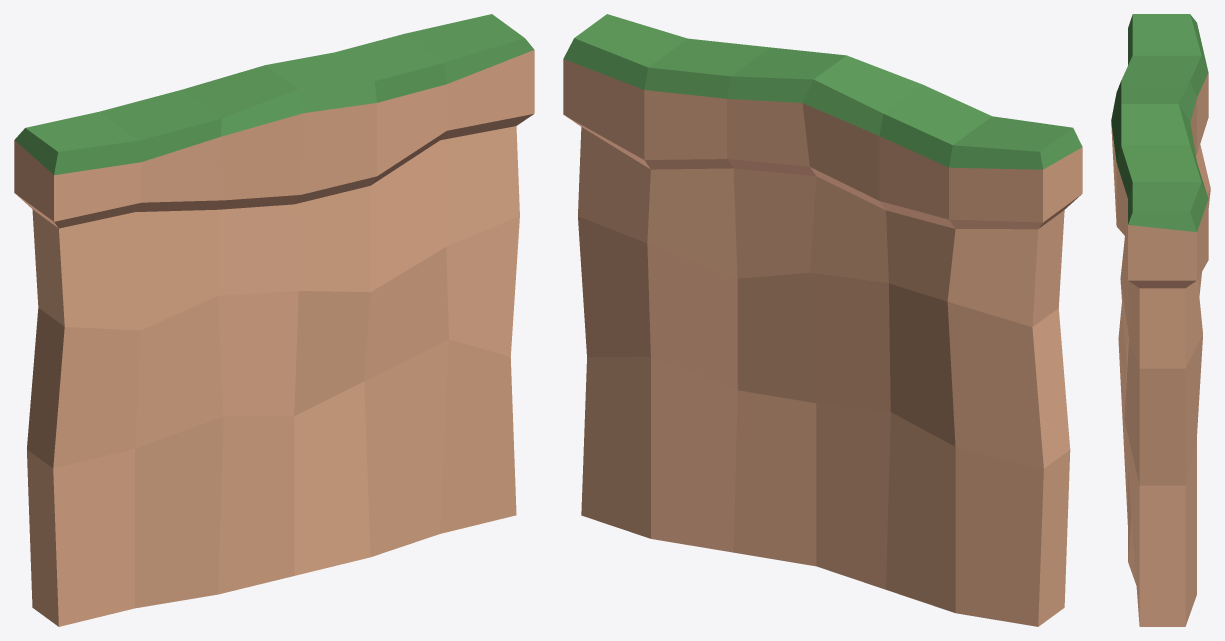
File: CliffWall.fbx
3 views of the same model, side by side, from view 1: azimuth 30°, elevation 25°; view 2: azimuth 150°, elevation 25°; view 3: azimuth 270°, elevation 25° (orthographic). The views are drawn at different scales.
Parts seen in each view (by area): view 1: Cube; view 2: Cube; view 3: Cube.
Boxes of the visible parts, x1,y1,x2,y2 form: Cube: (14,14,534,626); Cube: (563,14,1082,626); Cube: (1111,14,1210,626).
Size of the model in its own units: 21000 by 20445 by 4336.
